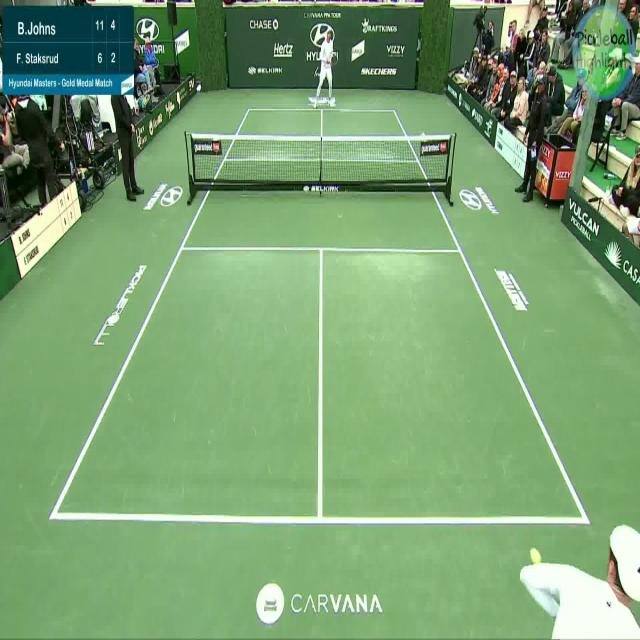ball: (529, 547, 542, 564)
